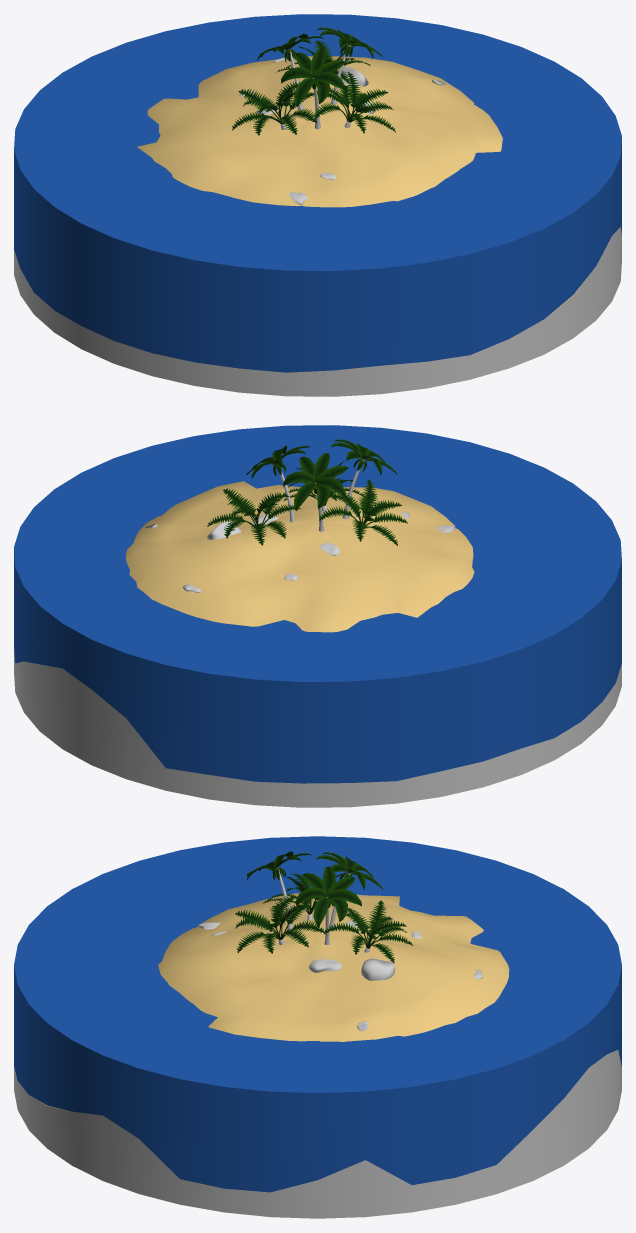
The model's file is beach.obj.
3 views of the same model, one above another, from view 1: azimuth 30°, elevation 25°; view 2: azimuth 150°, elevation 25°; view 3: azimuth 270°, elevation 25° (orthographic).
Visible parts, largest first — view 1: water, ground_hight, ground; view 2: water, ground_hight, ground; view 3: water, ground_hight, ground, Box007.
Boxes of the visible parts, bbox=[...] form: water: bbox=[14, 14, 621, 372]; ground_hight: bbox=[137, 56, 502, 207]; ground: bbox=[14, 227, 621, 396]; water: bbox=[14, 425, 621, 783]; ground_hight: bbox=[125, 481, 474, 632]; ground: bbox=[14, 648, 621, 807]; water: bbox=[14, 836, 621, 1192]; ground_hight: bbox=[158, 893, 509, 1041]; ground: bbox=[14, 1050, 621, 1218]; Box007: bbox=[361, 958, 394, 980].
Size of the model in its own units: 5000 by 2094 by 5000.
